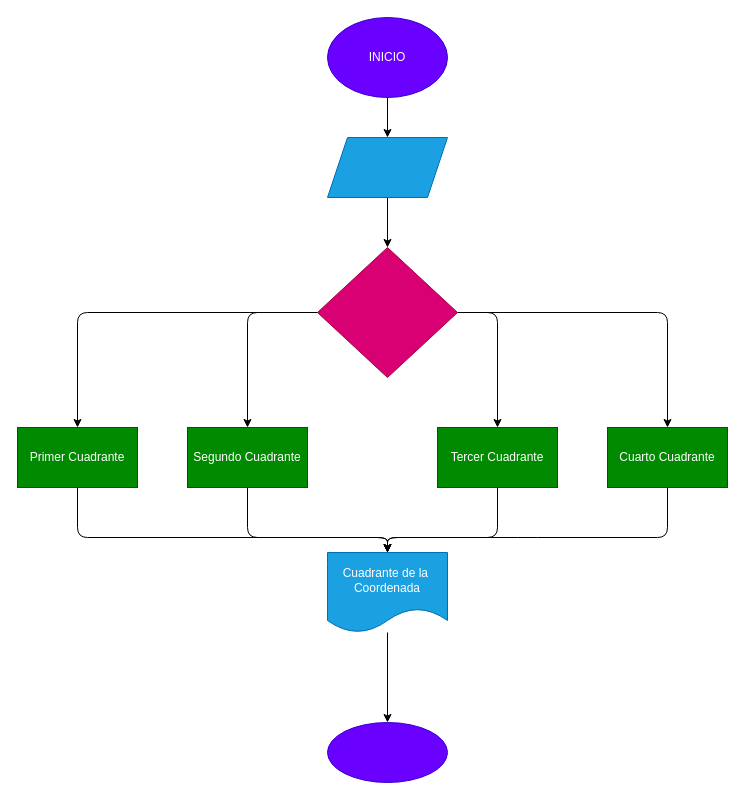
This 745x800 diagram has some shape labels left out. The shapes that lost their labels are listed below. From the top down, each one's box as (x1, y1, x2, y2) in pixels, then its label:
(326, 136, 448, 198): X,Y
(316, 246, 458, 378): X<0, X>0 Y<0, Y>0
(326, 722, 448, 782): FIN
